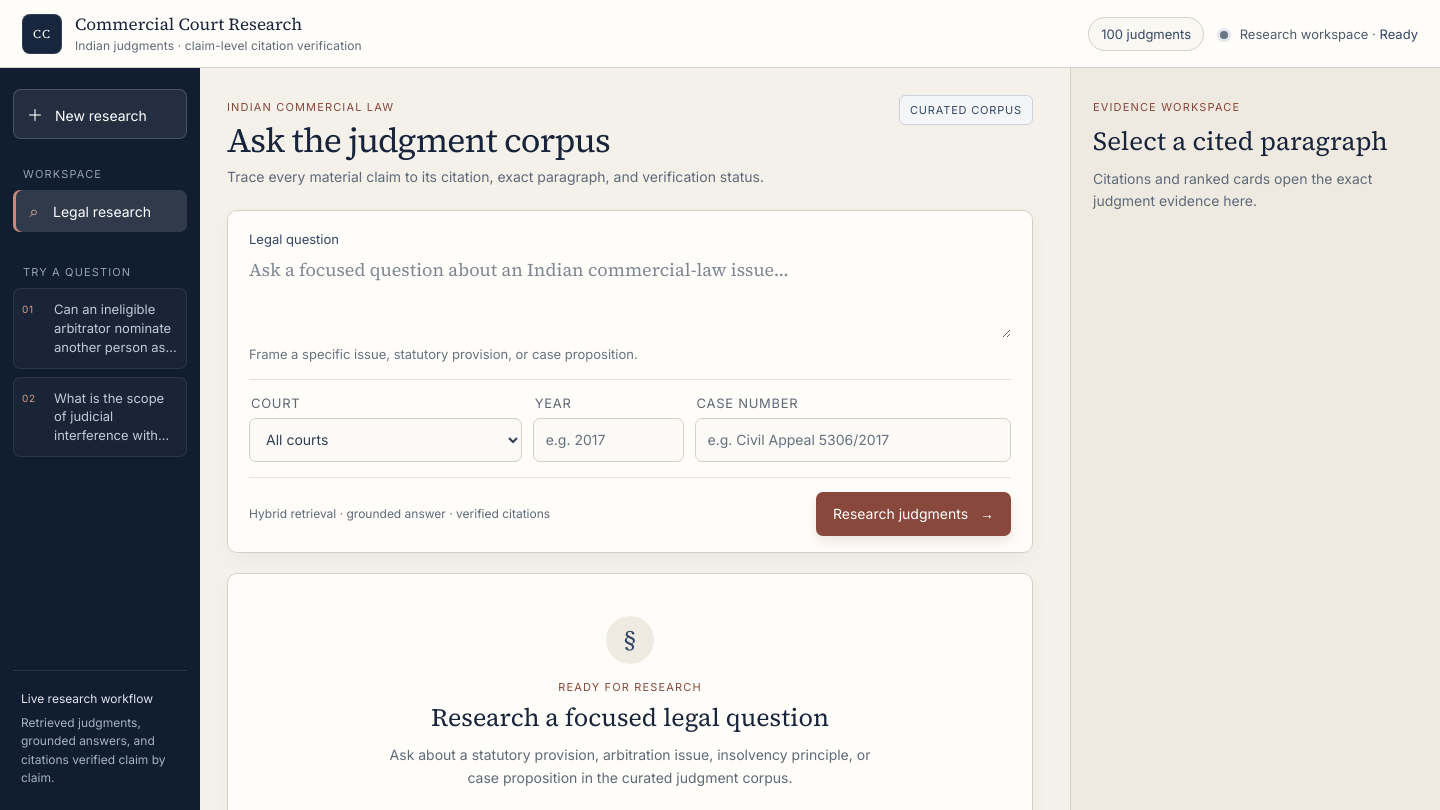
Test: ResearchWorkspace live API boundary › starts empty and demo questions only populate the live query
Expected: the heading "Research a focused legal question" is shown, [431, 701, 829, 733]
Click the button "Can an ineligible arbitrator nominate" at (100, 328), box [13, 288, 187, 368]
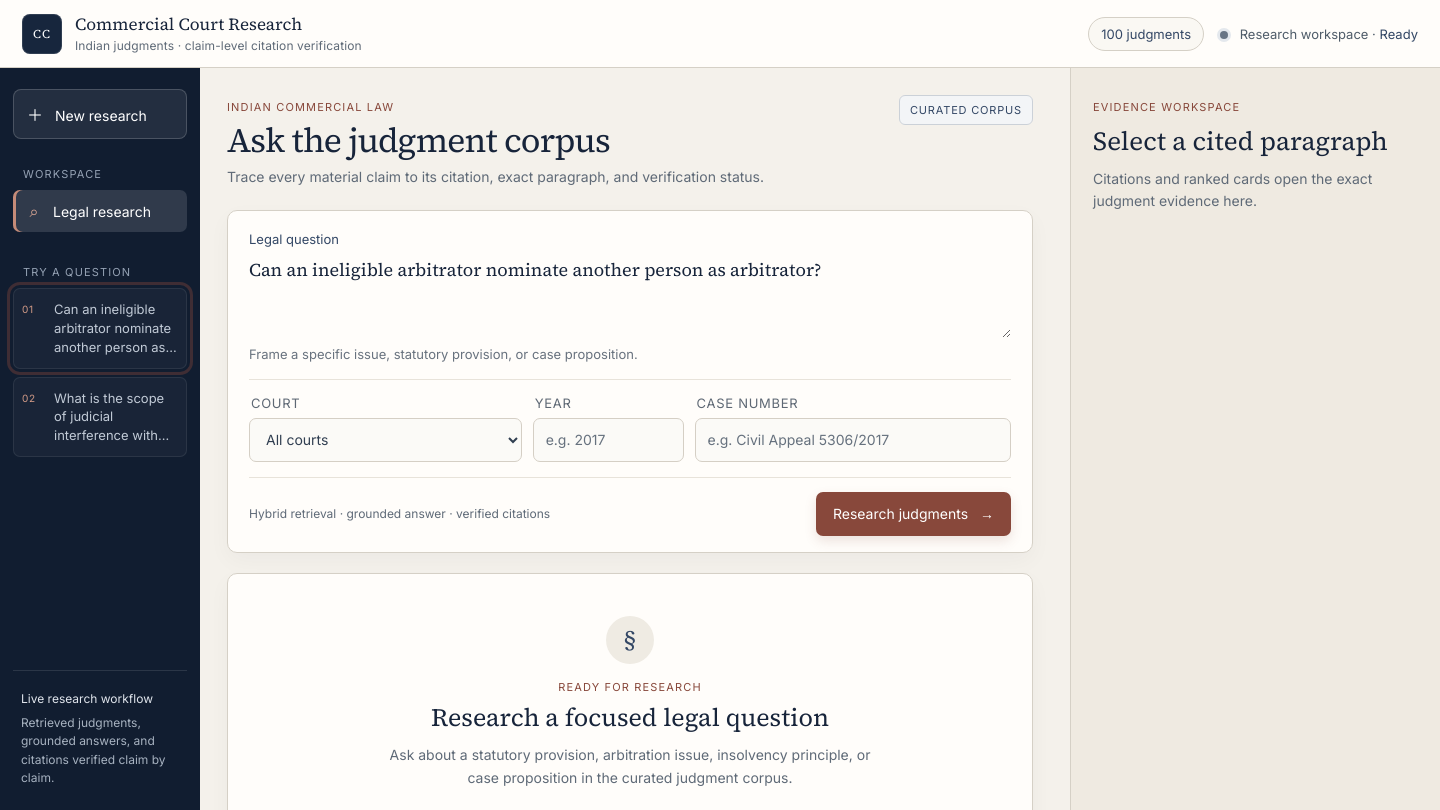
Expected: the text box labelled "Legal question" holds "Can an ineligible arbitrator nominate another person as arbitrator?", [249, 256, 1011, 338]
